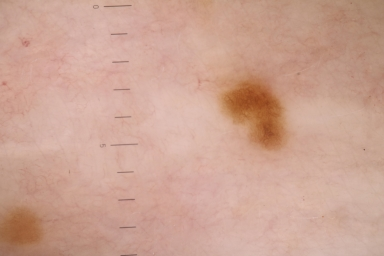nevus: (224, 84, 285, 148), (1, 212, 40, 241)
